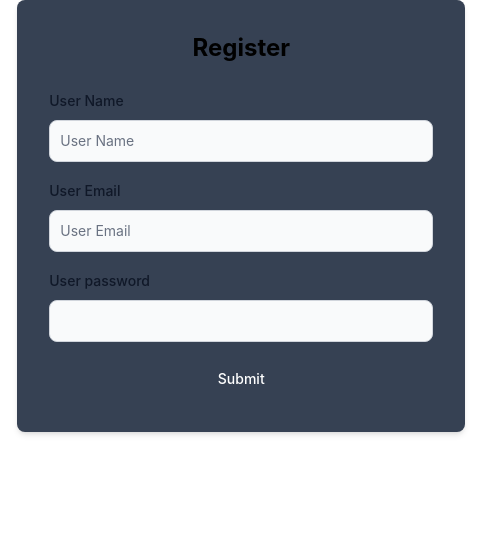
Test: RegisterPage › submits the form and displays error message
// Simulate user input
Type "test-username" into the field named "User name input".
click(241, 141); type("test-username")  # box [49,120,433,162]
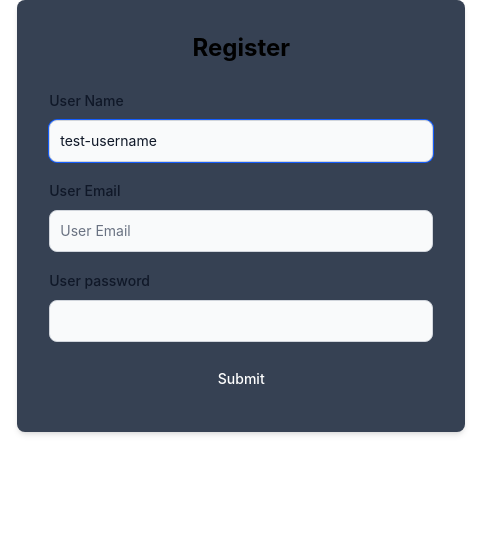
Type "test@example.com" into the field named "Email input".
click(241, 231); type("test@example.com")  # box [49,210,433,252]
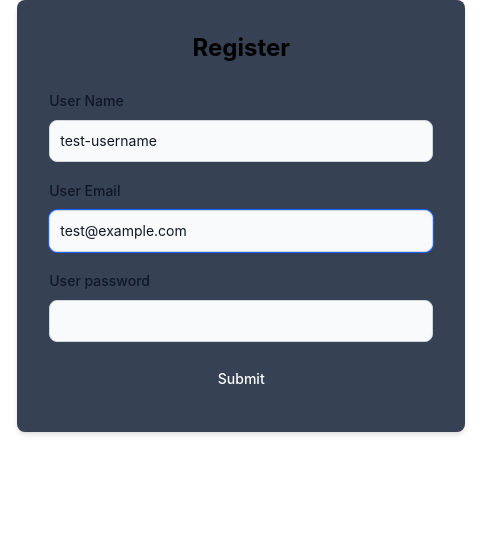
Type "password" into the password field named "Password input".
click(241, 321); type("password")  # box [49,300,433,342]
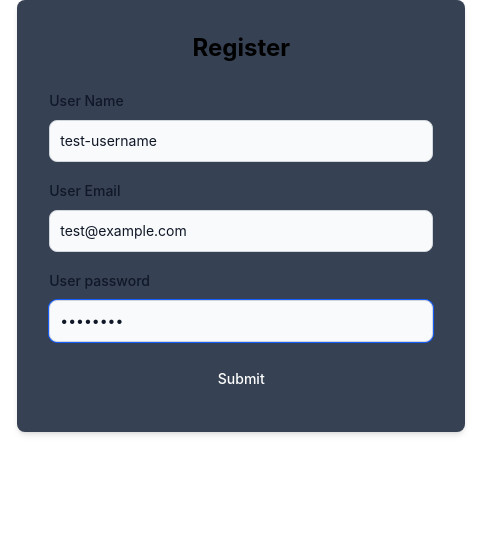
Click the button "Submit".
click(241, 379)  # box [49,358,433,400]
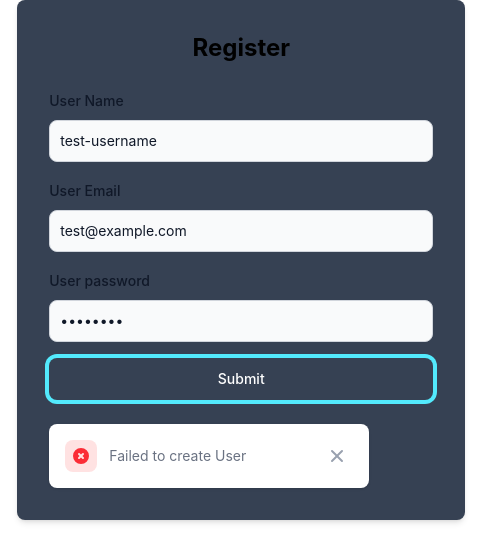
Check: the text "Failed to create User" is shown, box [109,446,246,466]
